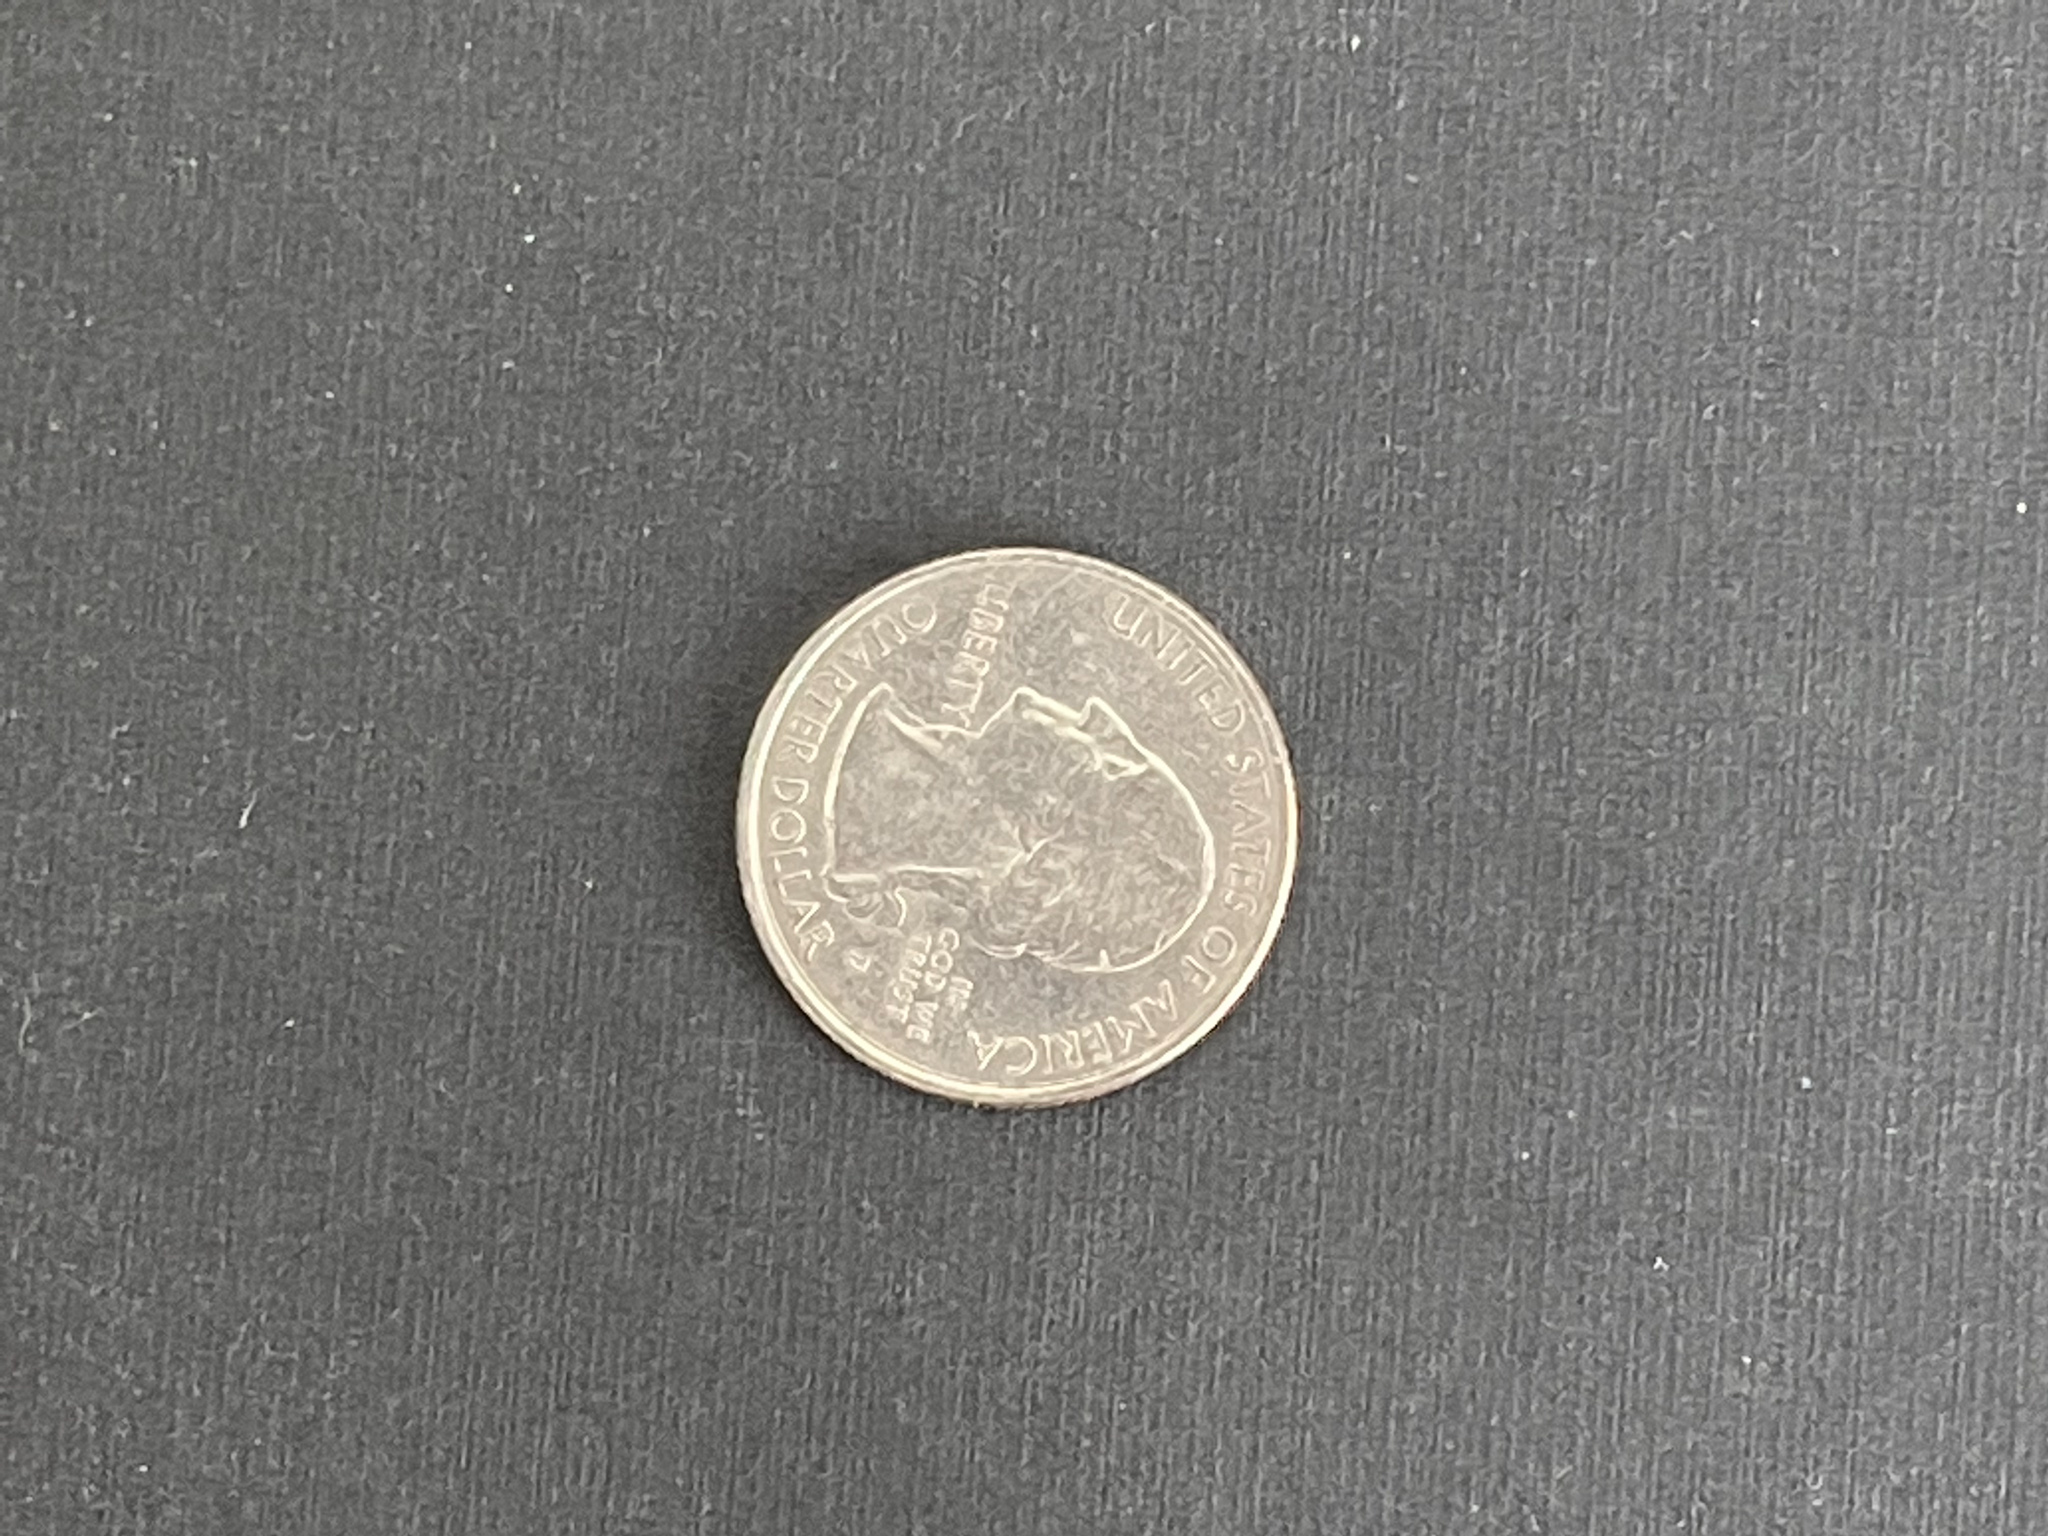quarter: (727, 539, 1309, 1115)
